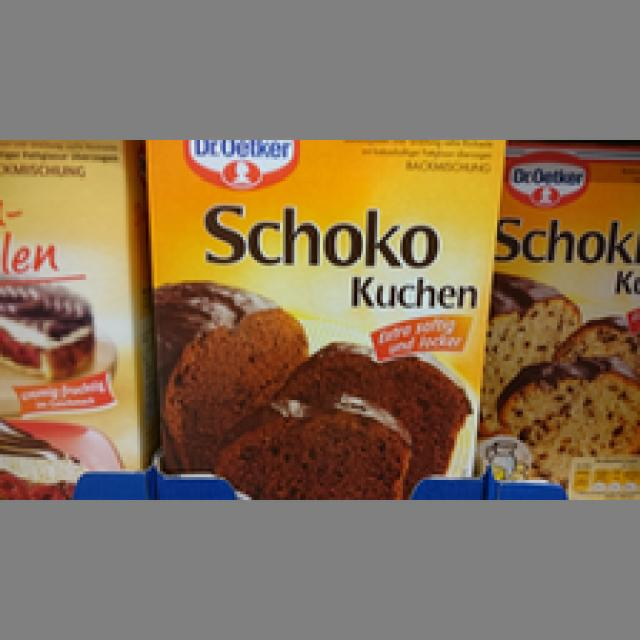groceries: (146, 137, 497, 497), (489, 137, 637, 486), (0, 137, 134, 471)
